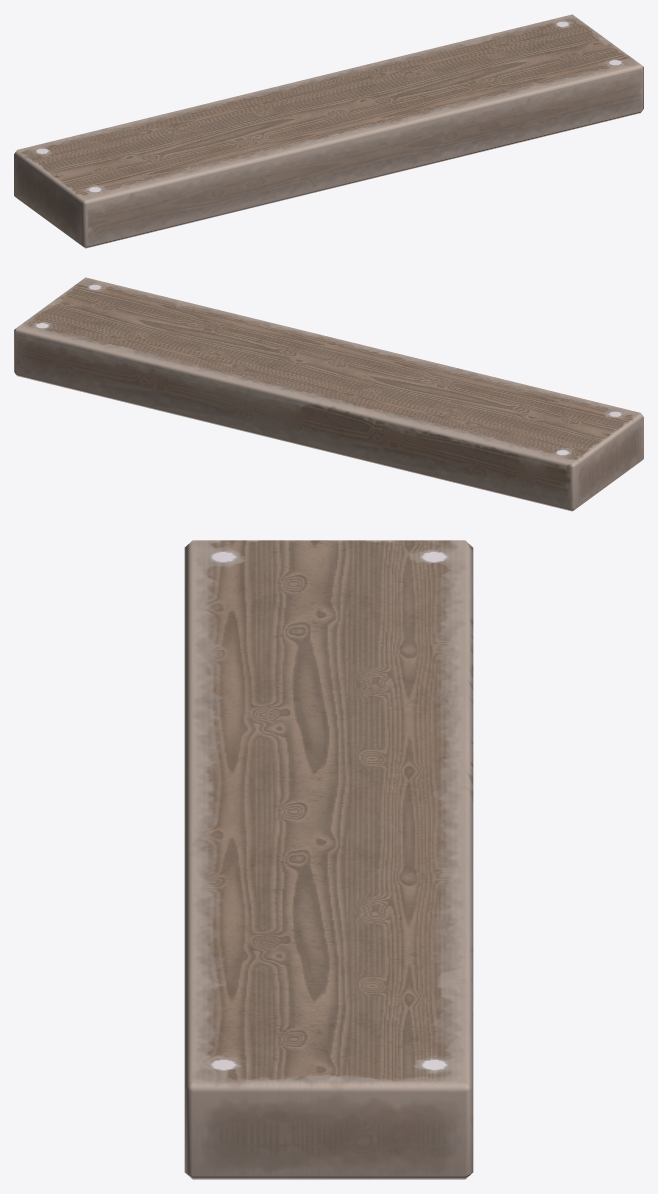
The model's file is Wood Platform.fbx.
3 renders of one model, top to bottom at view 1: azimuth 30°, elevation 25°; view 2: azimuth 150°, elevation 25°; view 3: azimuth 270°, elevation 25°, orthographic. The views are drawn at different scales.
Visible parts, largest first — view 1: Wood_Board_1_low; view 2: Wood_Board_1_low; view 3: Wood_Board_1_low.
Part boxes in pixels (x1,y1,x2,y2): Wood_Board_1_low: (14, 14, 643, 248); Wood_Board_1_low: (14, 277, 643, 511); Wood_Board_1_low: (184, 540, 473, 1179).
Size of the model in its own units: 3 by 0.25 by 0.6667.
Materials: 1 (1 with a texture image).
